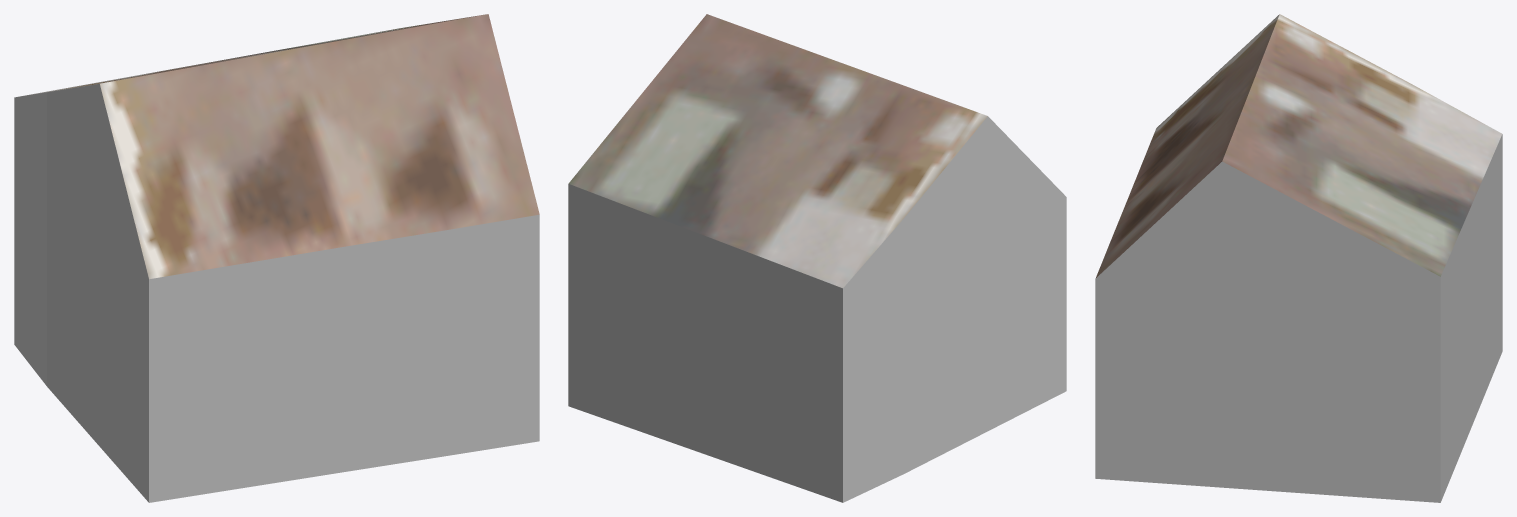
The model's file is DEBW_0010007Tx7b.gltf.
The picture shows the model from 3 angles, left to right: view 1: azimuth 30°, elevation 25°; view 2: azimuth 150°, elevation 25°; view 3: azimuth 270°, elevation 25°; orthographic projection. The views are drawn at different scales.
Parts seen in each view (by area): view 1: Z_UP; view 2: Z_UP; view 3: Z_UP.
Part boxes in pixels (x1=…): Z_UP: x1=14, y1=14, x2=539, y2=502; Z_UP: x1=568, y1=14, x2=1066, y2=502; Z_UP: x1=1095, y1=14, x2=1502, y2=502.
Bounding box in the file's own units: 13.73 × 11.76 × 13.3.
Materials: 2 (1 with a texture image).
